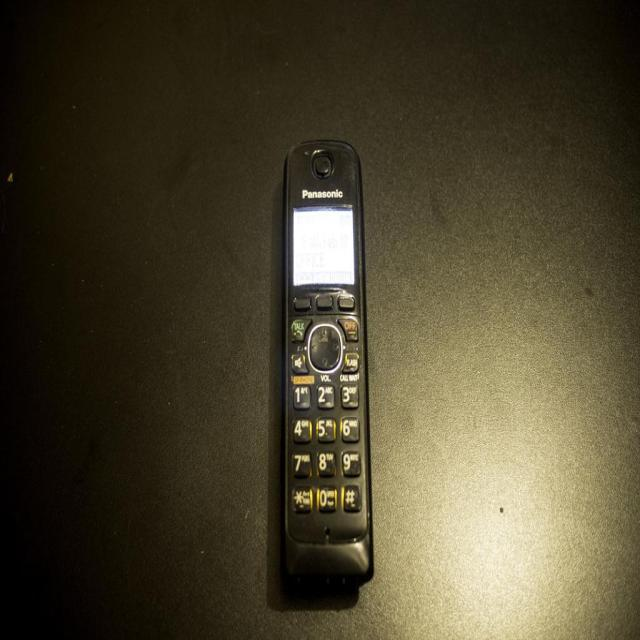Phone: (278, 138, 373, 604)
